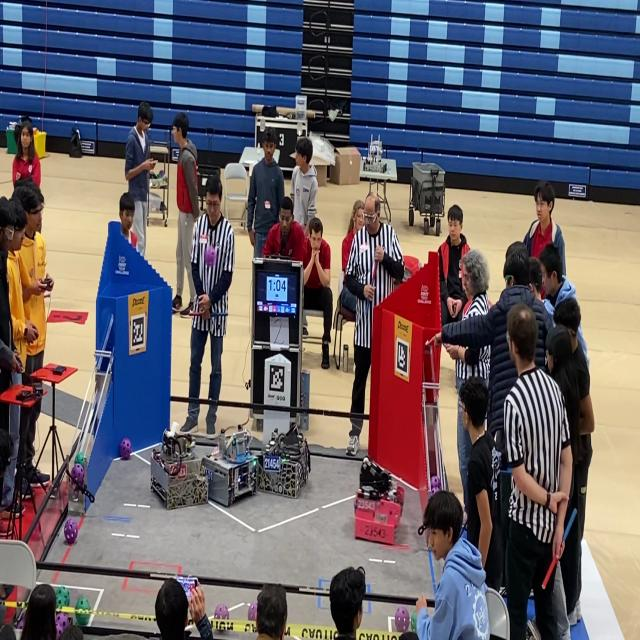artifact_green: (75, 596, 90, 625), (56, 587, 70, 608), (75, 452, 86, 466), (410, 610, 416, 632)
artifact_purple: (395, 606, 410, 633), (64, 518, 78, 544), (56, 613, 71, 637), (71, 463, 84, 485), (120, 438, 132, 460), (214, 604, 229, 619), (205, 246, 216, 266), (430, 476, 442, 494), (248, 602, 257, 622), (56, 624, 64, 639), (17, 614, 24, 630), (411, 610, 416, 632)
